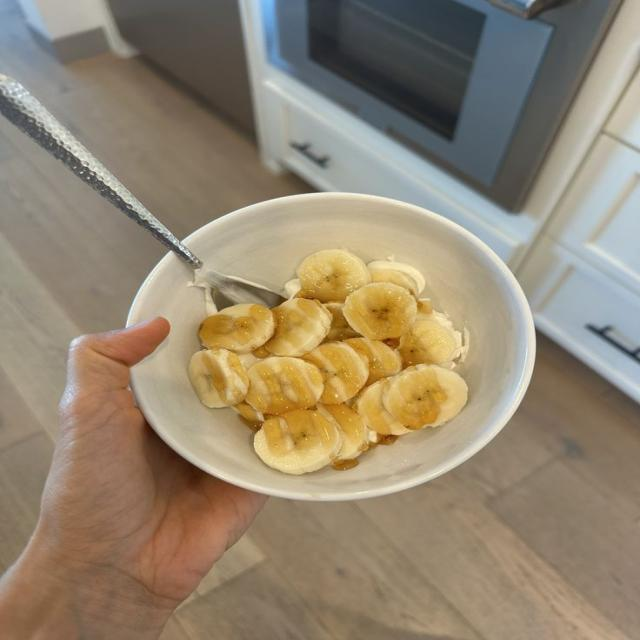banana slice: (254, 410, 341, 474), (382, 365, 467, 429), (246, 357, 324, 414), (344, 283, 416, 339), (302, 342, 368, 403), (297, 250, 371, 302), (265, 299, 331, 356), (199, 304, 275, 353), (188, 350, 248, 407), (399, 312, 461, 367), (354, 379, 408, 435), (318, 404, 369, 460), (346, 338, 401, 385), (367, 260, 425, 296), (325, 303, 359, 341), (370, 269, 417, 296), (234, 403, 265, 424), (417, 299, 433, 319)
